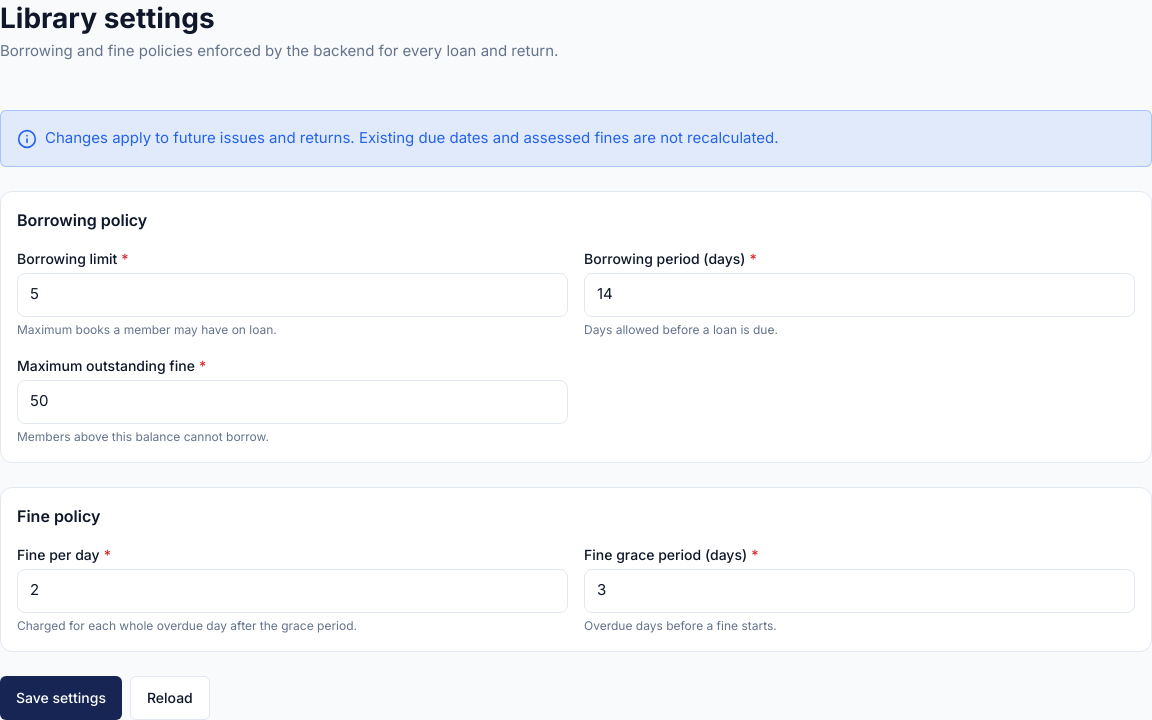
Test: SettingsPage › does not save when the confirmation is cancelled
(page scrolled)
Expected: the number field labelled "Borrowing limit*" holds "5", [17,273,568,317]
Step 1. Click the button "Save settings" → {"x": 61, "y": 698}, box [0,676,122,719]
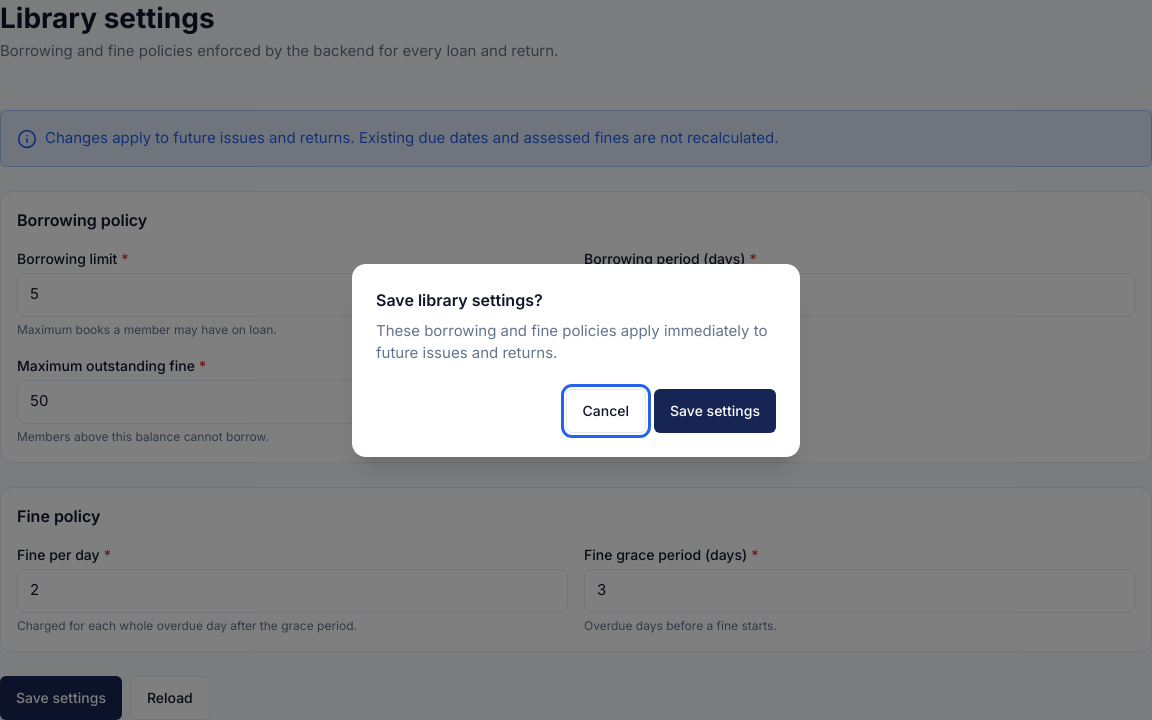
Step 2. Click the button "Cancel" → {"x": 606, "y": 410}, box [566,388,646,432]
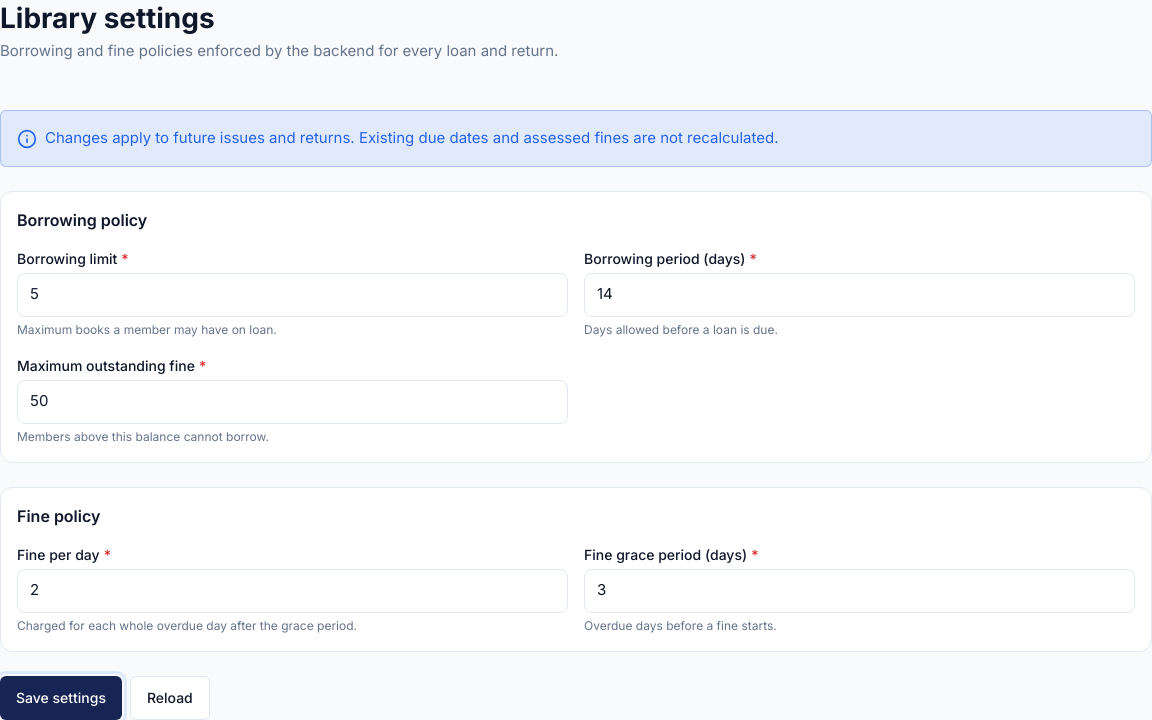
Expected: the dialog is gone
